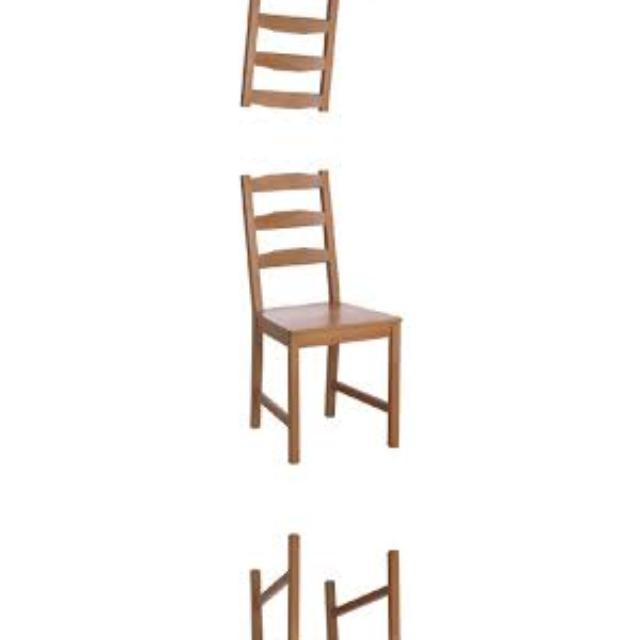obstacle: (217, 158, 429, 472), (217, 0, 429, 122), (217, 524, 429, 640)
